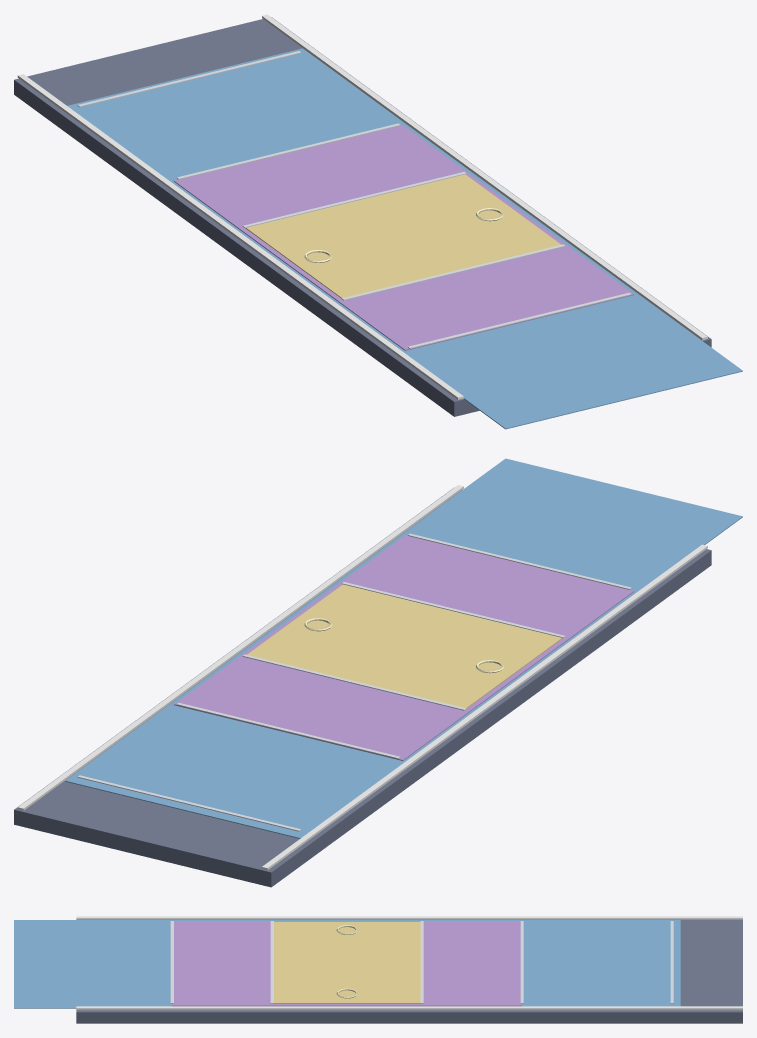
The model's file is campo_puntaje.glb.
3 renders of one model, top to bottom at view 1: azimuth 30°, elevation 25°; view 2: azimuth 150°, elevation 25°; view 3: azimuth 270°, elevation 25°, orthographic. The views are drawn at different scales.
Parts seen in each view (by area): view 1: campo_puntaje; view 2: campo_puntaje; view 3: campo_puntaje.
Part boxes in pixels (x1,y1,x2,y2): campo_puntaje: [14, 14, 742, 429]; campo_puntaje: [14, 458, 742, 887]; campo_puntaje: [14, 916, 742, 1023].
Size of the model in its own units: 5.4 by 0.4038 by 17.5.
